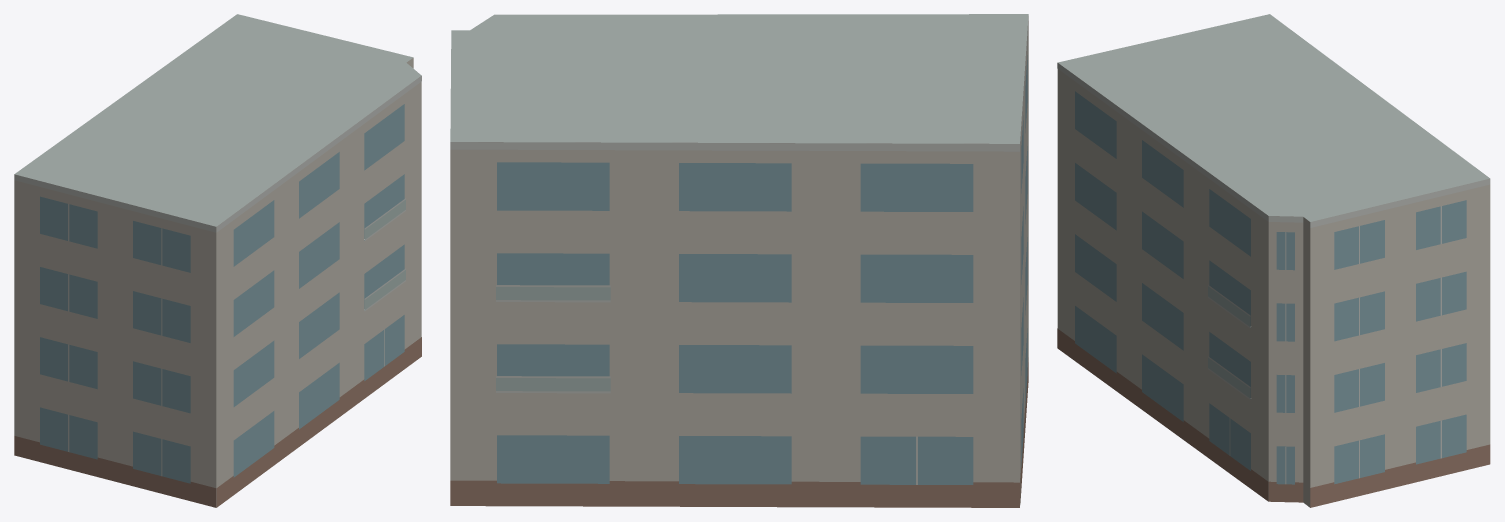
Rendered from survey-upis-32881516.glb.
The picture shows the model from 3 angles, left to right: view 1: azimuth 30°, elevation 25°; view 2: azimuth 150°, elevation 25°; view 3: azimuth 270°, elevation 25°; orthographic projection. The views are drawn at different scales.
Parts seen in each view (by area): view 1: survey-upis-32881516.tmp; view 2: survey-upis-32881516.tmp; view 3: survey-upis-32881516.tmp.
Boxes of the visible parts, box(x1,y1,x2,y2) form: survey-upis-32881516.tmp: box(14, 14, 421, 507); survey-upis-32881516.tmp: box(450, 14, 1028, 507); survey-upis-32881516.tmp: box(1057, 14, 1490, 507).
Bounding box in the file's own units: 18.12 × 11.6 × 15.93.
